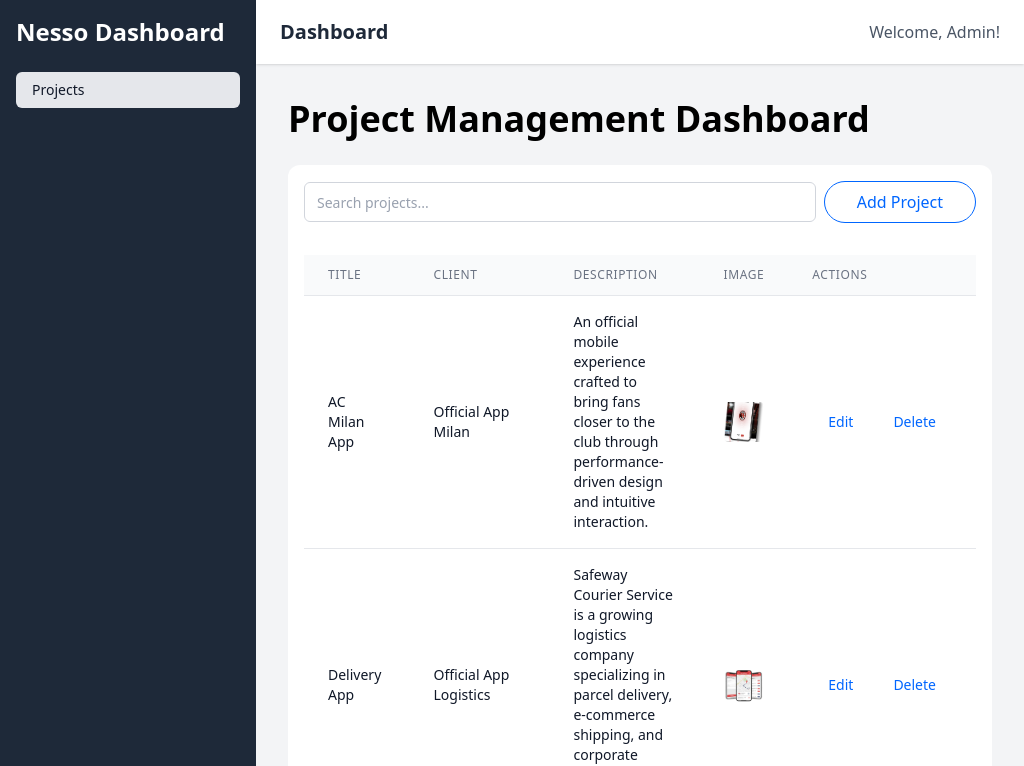
Test: Project Management Dashboard › opens modal when "Add Project" button is clicked
Click the button "Add Project": x=900, y=202 [824,181,976,223]
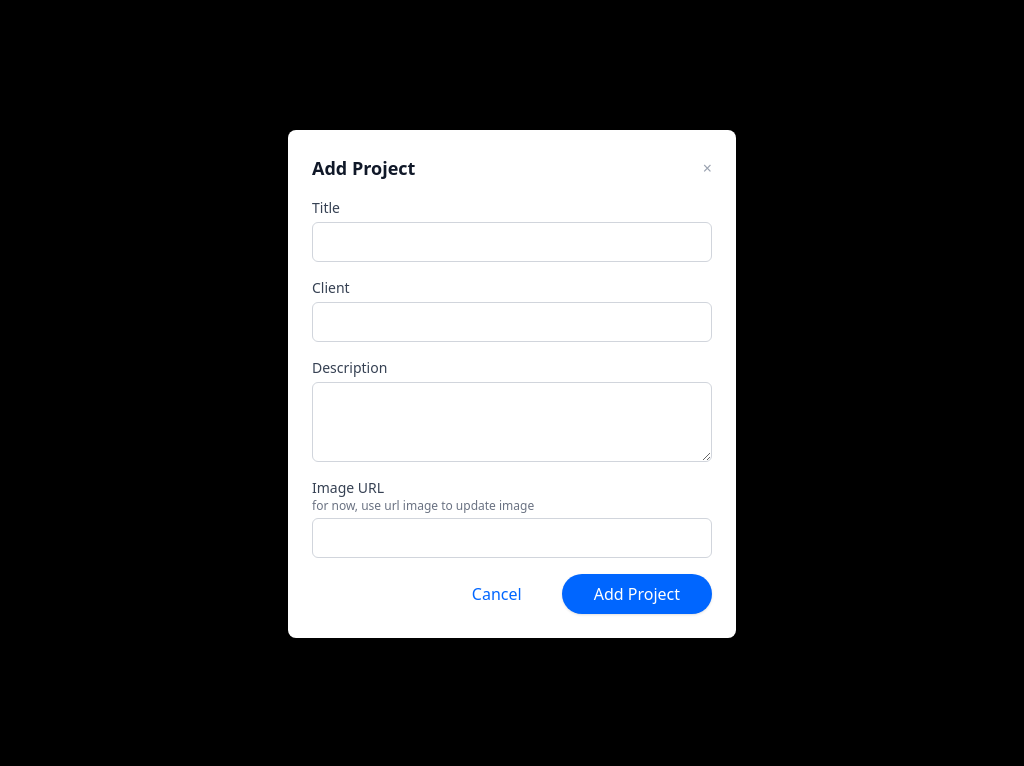
Check: the field labelled "Title" is shown, box [312,222,712,262]
Check: the field labelled "Client" is shown, box [312,302,712,342]
Check: the text box labelled "Description" is shown, box [312,382,712,462]
